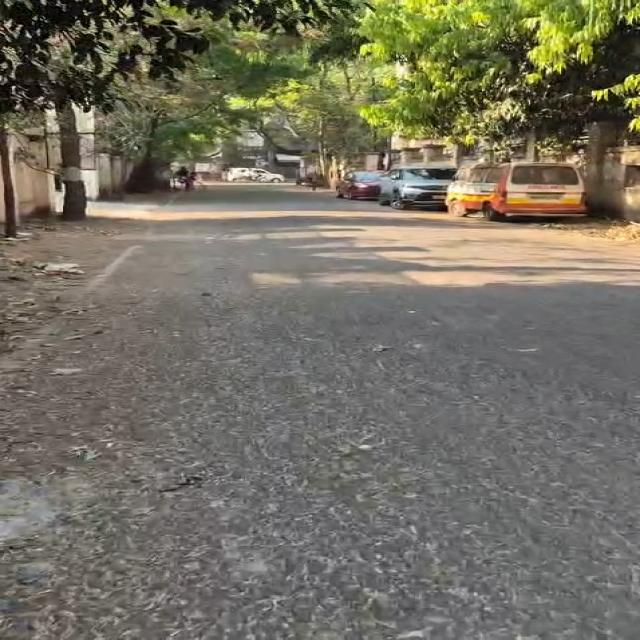obstacle: (57, 101, 87, 220), (126, 119, 168, 193), (0, 128, 17, 237)
vehical: (448, 162, 587, 220), (379, 165, 456, 210), (337, 171, 381, 199), (227, 168, 285, 182), (252, 168, 285, 182)
